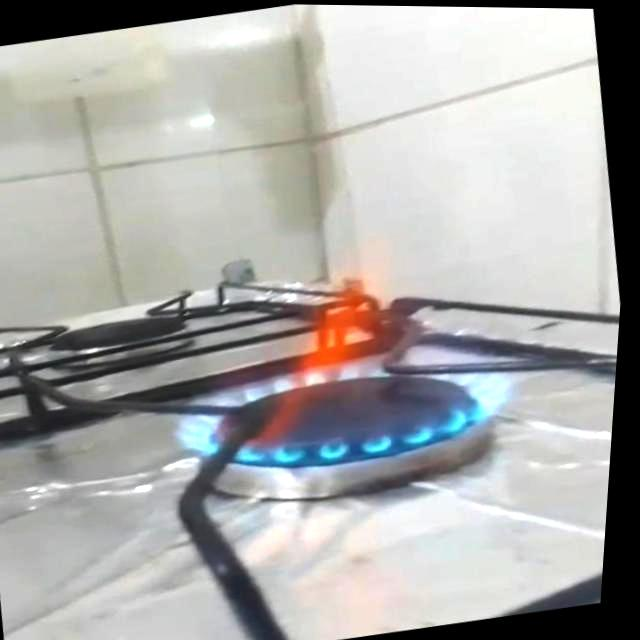fire: (149, 231, 547, 494)
